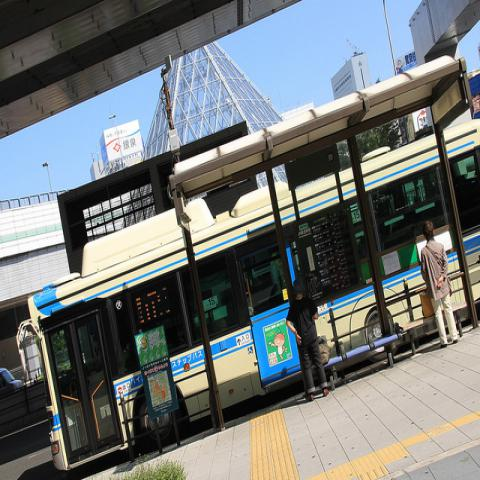bus: (29, 116, 478, 472)
car: (0, 368, 23, 395)
